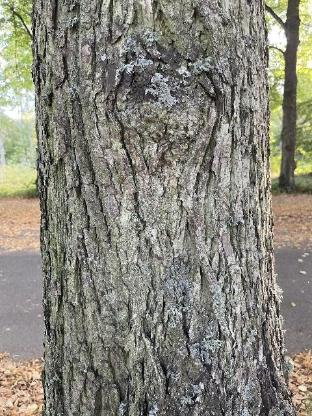tree: (25, 0, 300, 416)
